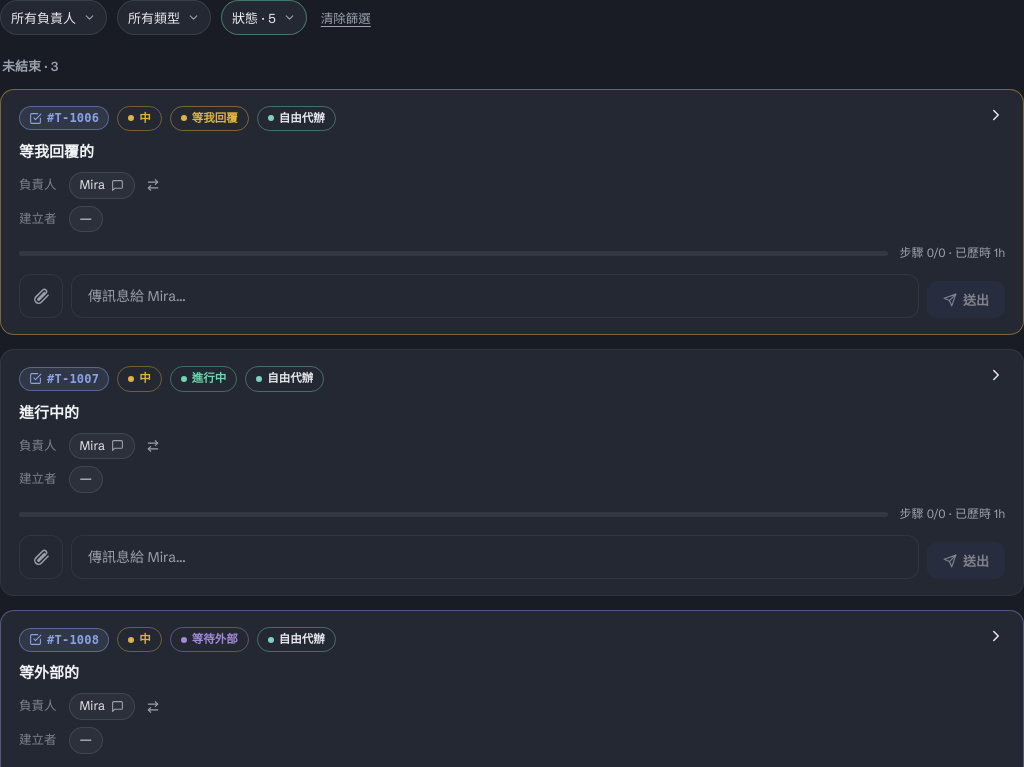
Test: spec ② 狀態 badge → 下拉選單 › the 等我回覆 jump item appears ONLY while status = 等我回覆
Click the button with test id "task-status" showing "等我回覆" at [209, 118], box [170,106,249,131]
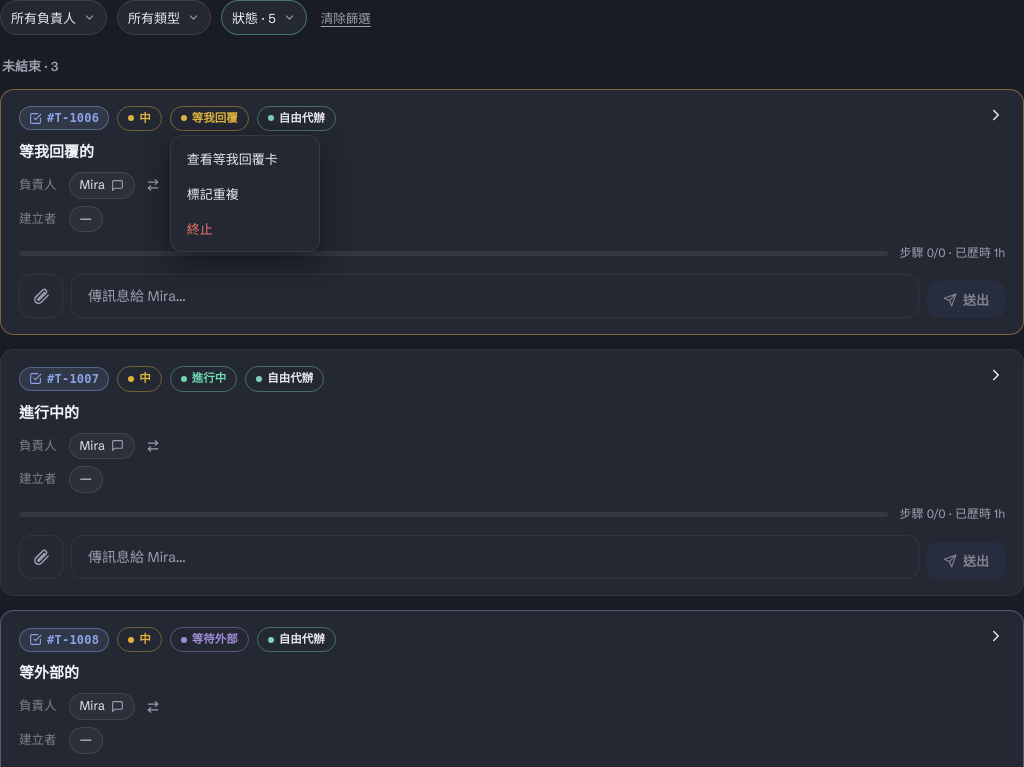
Now the menu item with test id "task-status-jump" is shown, box [177,142,313,175]
Click the button with test id "task-status" showing "進行中" at [204, 379], box [170,366,237,392]
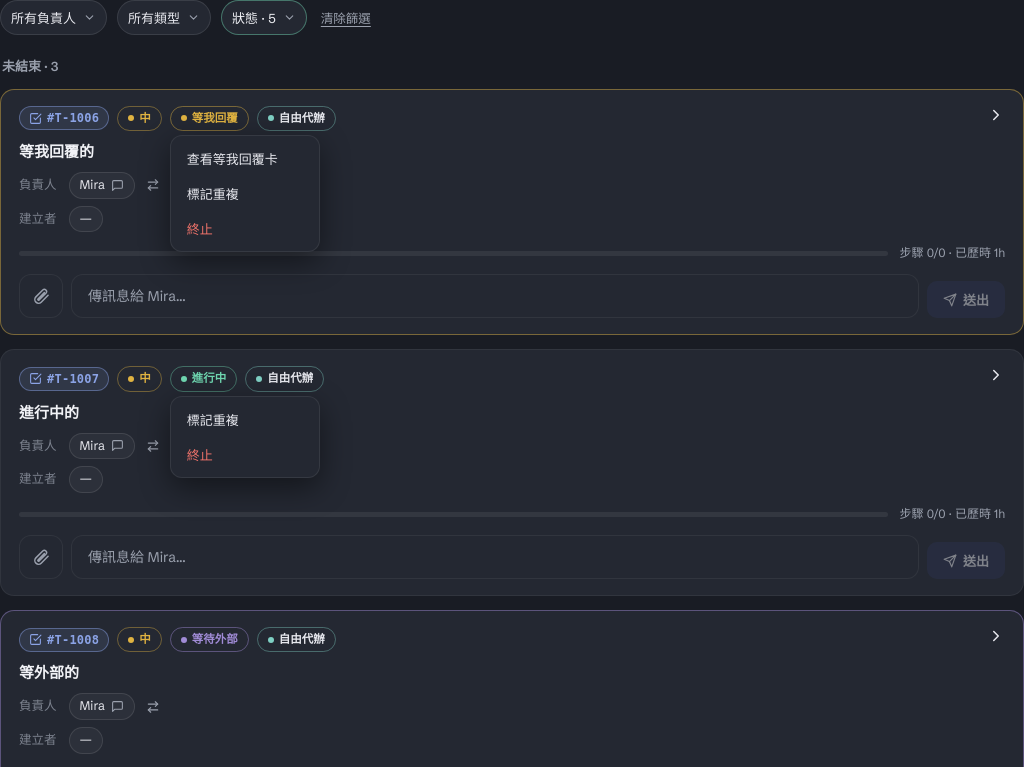
Now the menu with test id "task-status-options" showing "標記重複 終止" is shown, box [170,396,320,478]
Click the button with test id "task-status" showing "等待外部" at [209, 640], box [170,627,249,652]
(page scrolled)
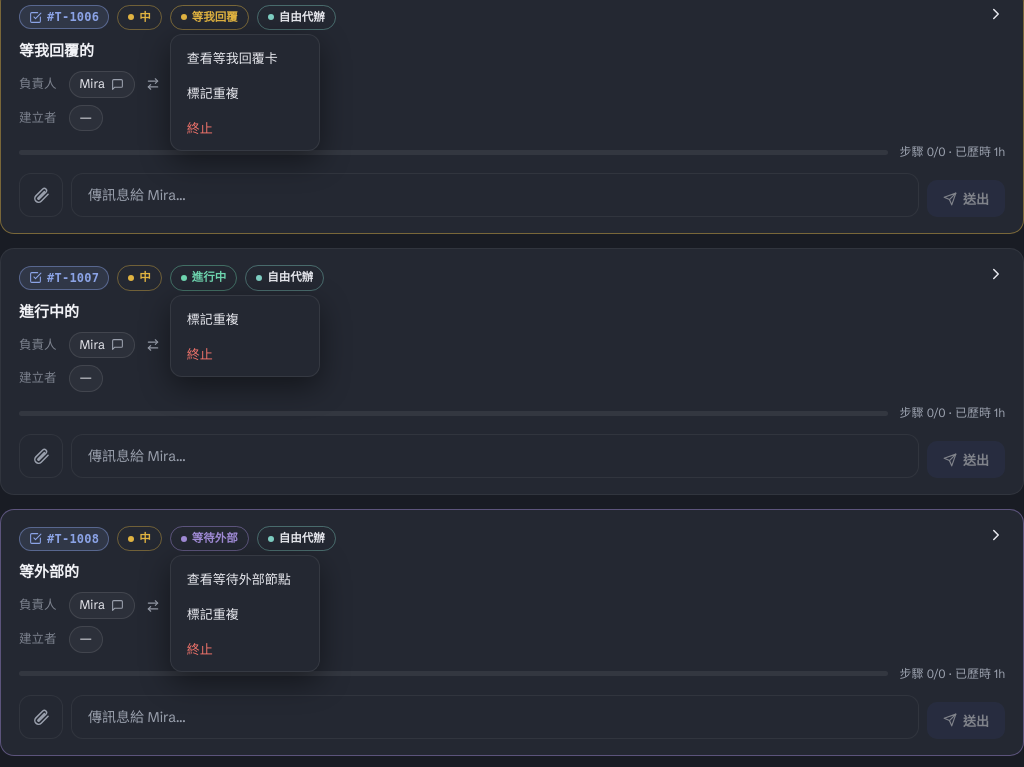
Now the menu with test id "task-status-options" showing "查看等待外部節點 標記重複 終止" is shown, box [170,555,320,672]
